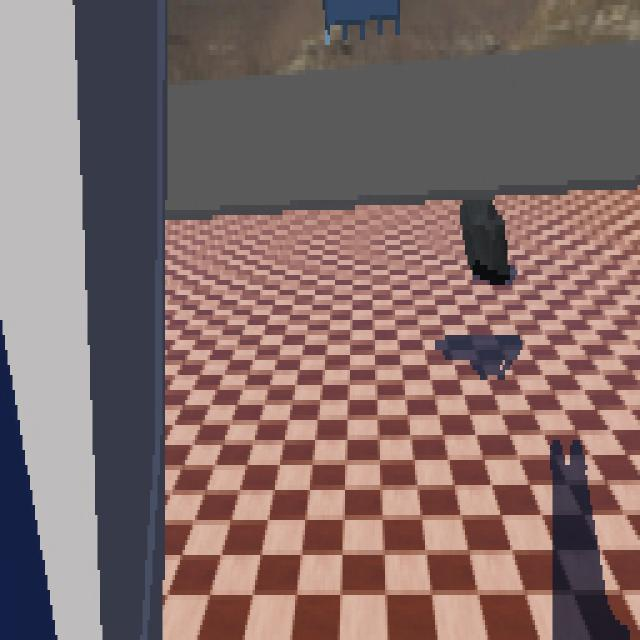rock: (459, 192, 512, 286)
